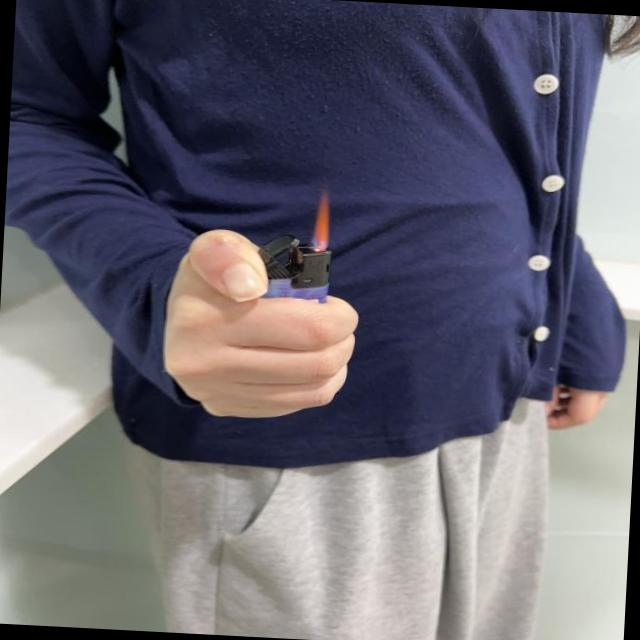Fire: (308, 189, 332, 252)
